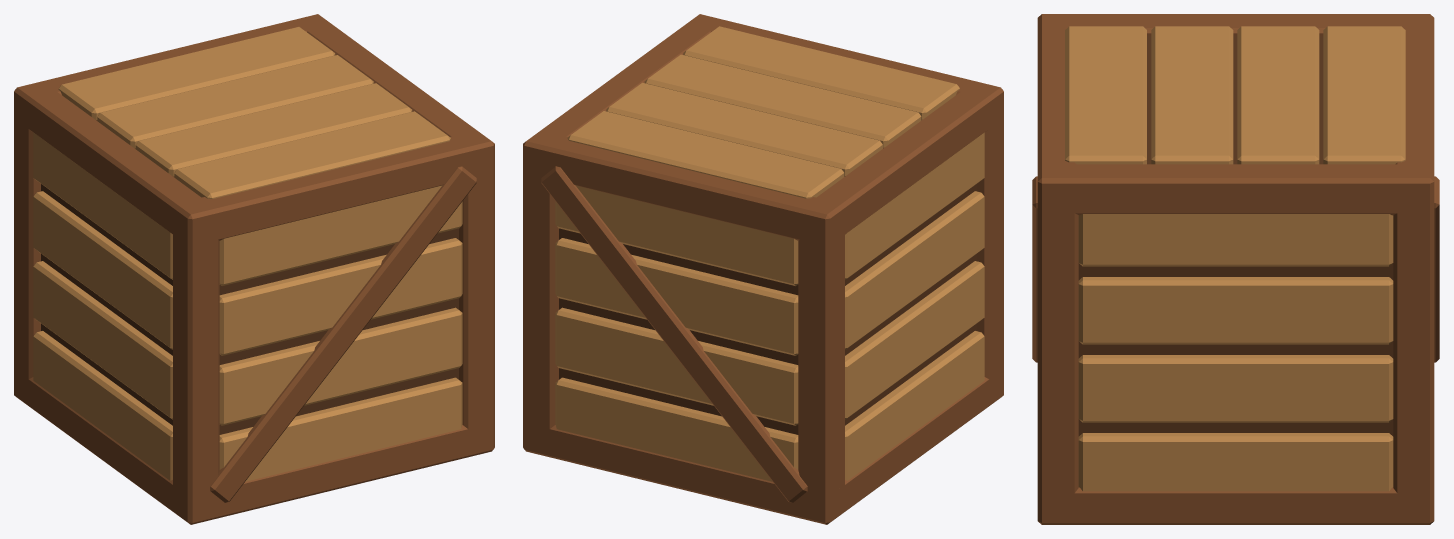
The model's file is myw_crate.glb.
3 views of the same model, side by side, from view 1: azimuth 30°, elevation 25°; view 2: azimuth 150°, elevation 25°; view 3: azimuth 270°, elevation 25° (orthographic). The views are drawn at different scales.
Visible parts, largest first — view 1: Crate; view 2: Crate; view 3: Crate.
Boxes of the visible parts, bbox=[...] form: Crate: bbox=[14, 14, 494, 524]; Crate: bbox=[523, 14, 1003, 524]; Crate: bbox=[1032, 14, 1439, 524].
Bounding box in the file's own units: 2.9 × 2.84 × 2.98.
